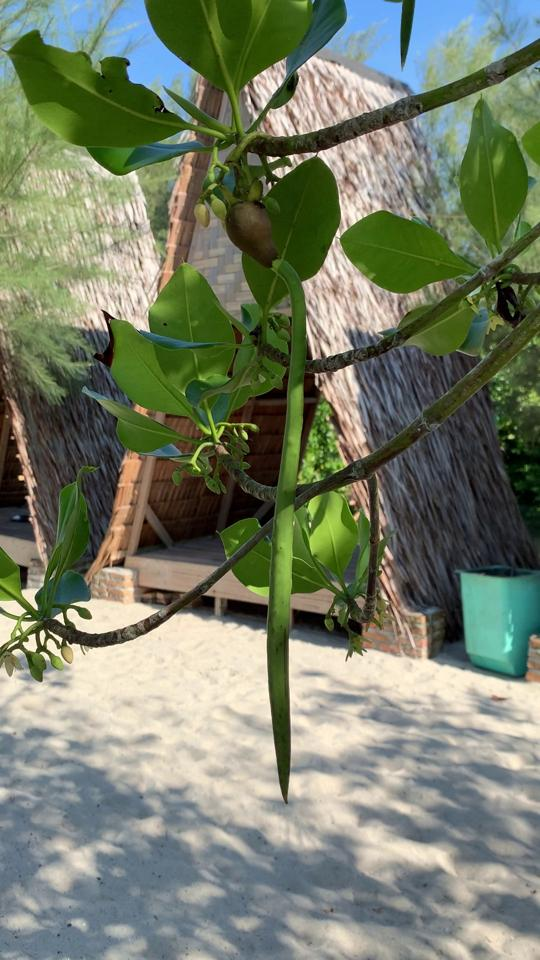setengah matang: (215, 185, 315, 816)
